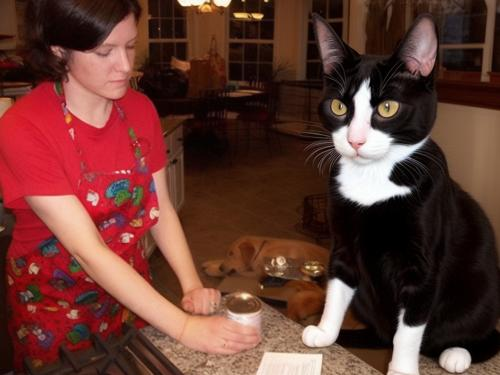cat: (302, 4, 500, 375)
chair: (193, 89, 235, 173)
dog: (203, 239, 366, 337)
person: (1, 3, 261, 375)
person/hand: (182, 315, 262, 356), (182, 289, 221, 315)
person/head: (47, 1, 138, 101)
